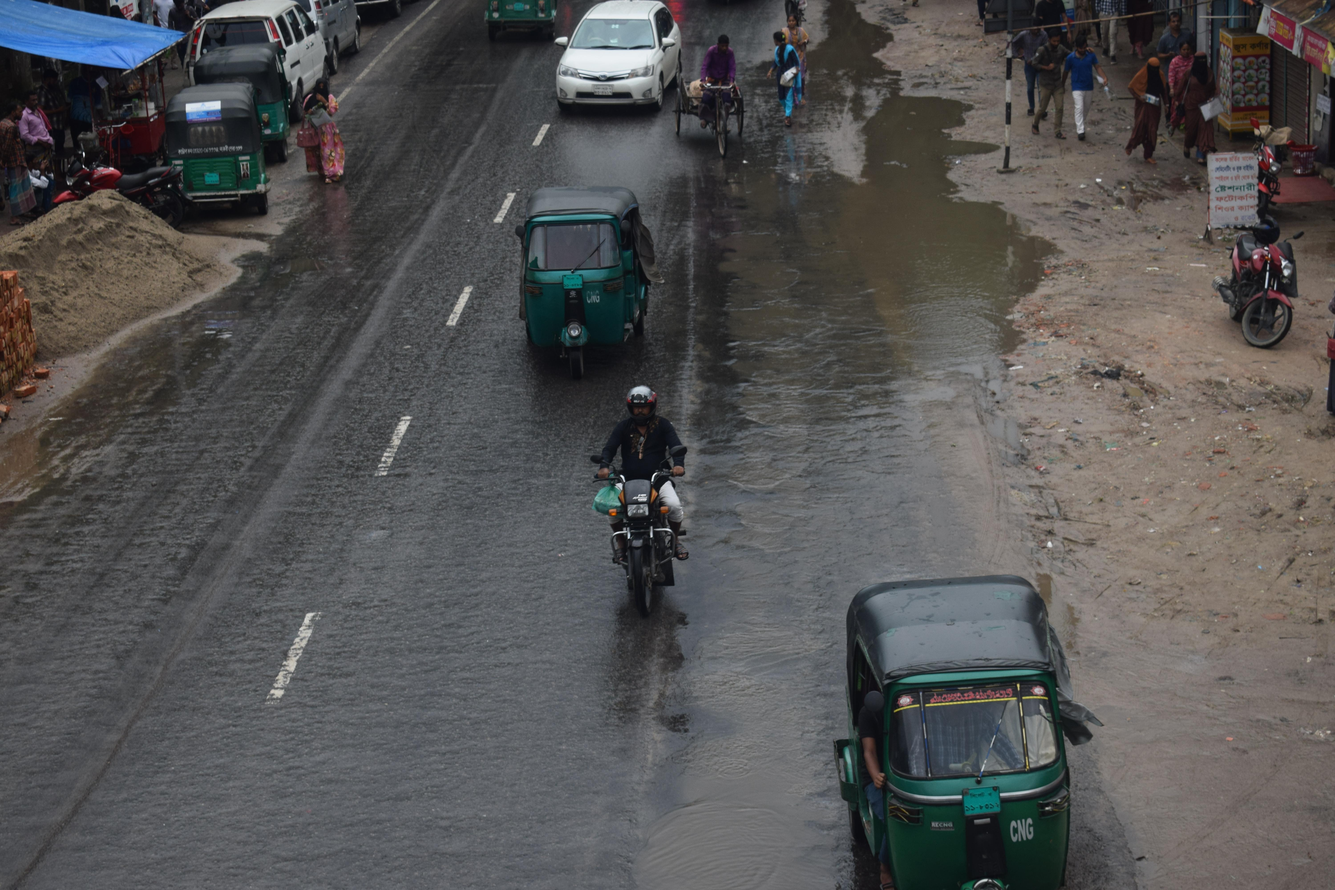Bike: (558, 350, 719, 648), (1178, 206, 1335, 370)
Car: (171, 0, 350, 135), (533, 0, 697, 142), (652, 24, 772, 179)
